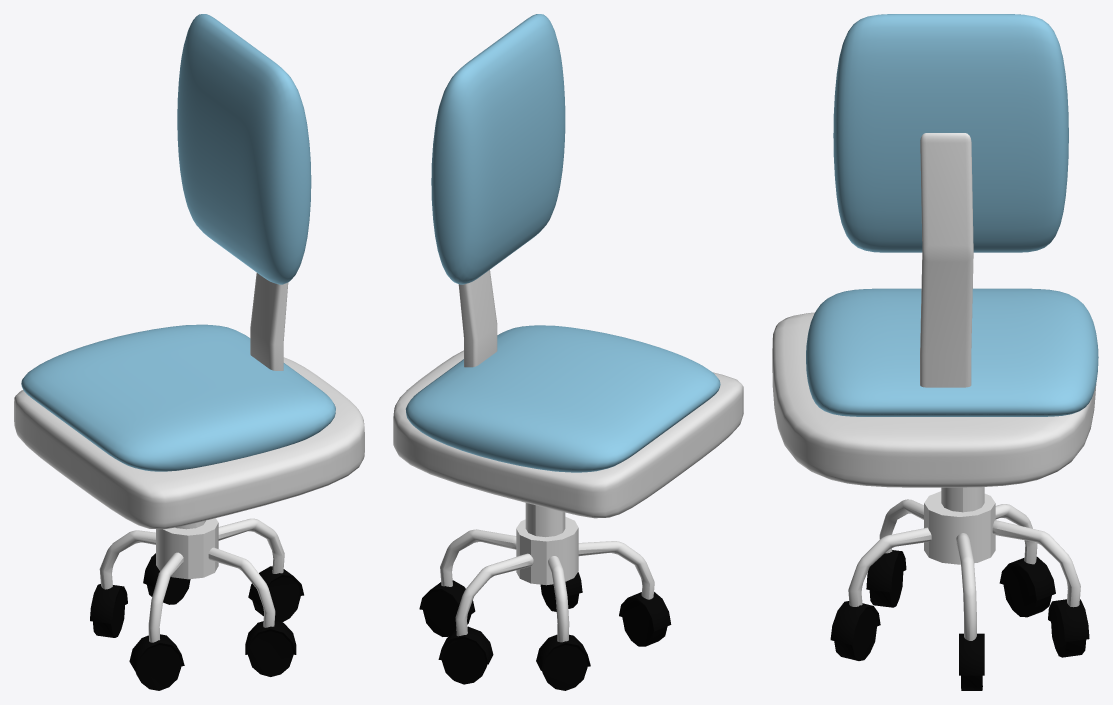
File: hasancandev.glb
The picture shows the model from 3 angles, left to right: view 1: azimuth 30°, elevation 25°; view 2: azimuth 150°, elevation 25°; view 3: azimuth 270°, elevation 25°; orthographic projection. The views are drawn at different scales.
Visible parts, largest first — view 1: Chair; view 2: Chair; view 3: Chair.
Part boxes in pixels (bbox=[...]): Chair: bbox=[14, 14, 364, 690]; Chair: bbox=[393, 14, 743, 690]; Chair: bbox=[772, 14, 1098, 690].
Bounding box in the file's own units: 0.1792 × 0.3964 × 0.1799.
